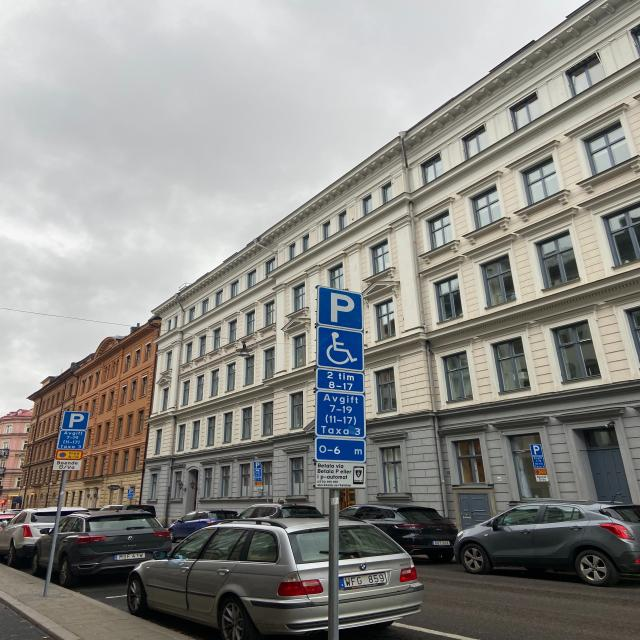psign: (315, 286, 364, 331), (60, 410, 90, 430), (530, 444, 543, 456), (254, 462, 261, 468)
